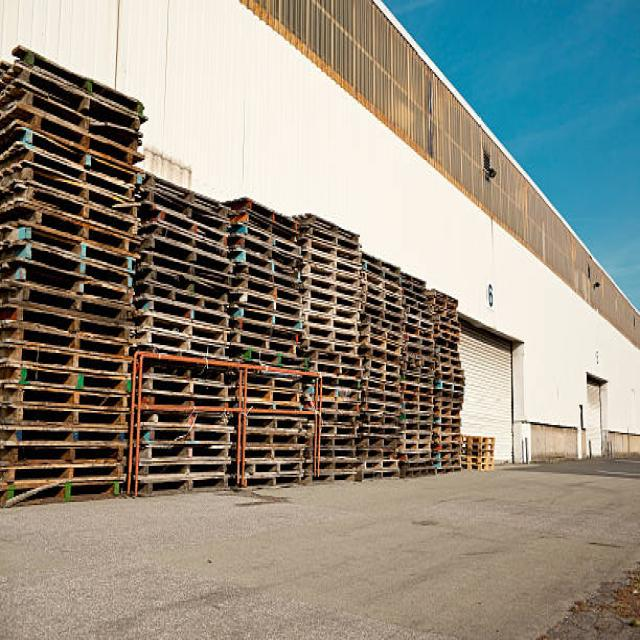Wooden-Pallets: (22, 107, 139, 174), (144, 309, 233, 354), (20, 288, 125, 322), (9, 424, 130, 451), (302, 222, 364, 262), (300, 297, 363, 329)
